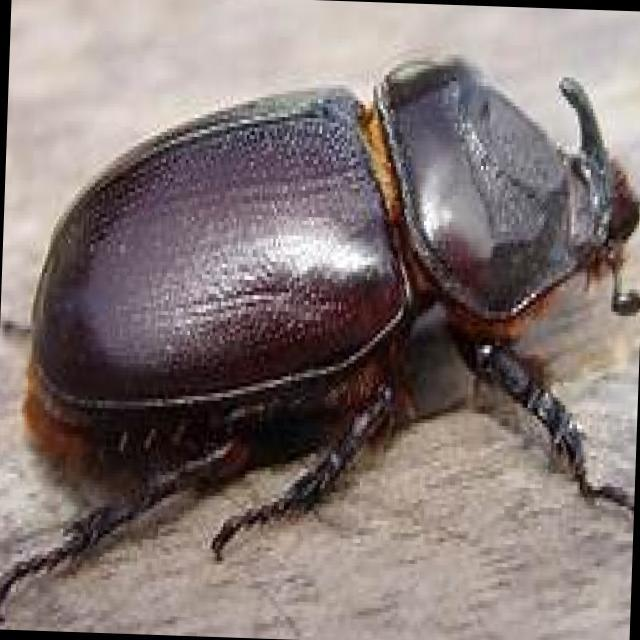Rhino-beetle: (31, 42, 640, 556)
